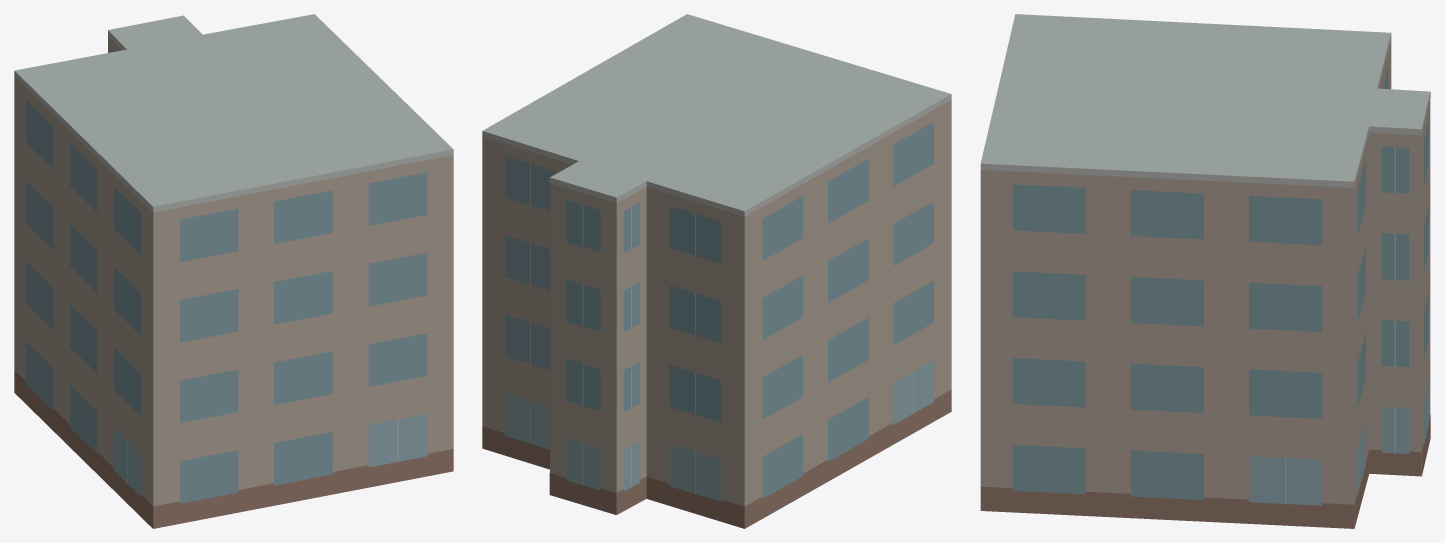
The model's file is survey-upis-32486648.glb.
The picture shows the model from 3 angles, left to right: view 1: azimuth 30°, elevation 25°; view 2: azimuth 150°, elevation 25°; view 3: azimuth 270°, elevation 25°; orthographic projection. The views are drawn at different scales.
Parts seen in each view (by area): view 1: survey-upis-32486648.tmp; view 2: survey-upis-32486648.tmp; view 3: survey-upis-32486648.tmp.
Boxes of the visible parts, box(x1,y1,x2,y2) form: survey-upis-32486648.tmp: box(14, 14, 453, 528); survey-upis-32486648.tmp: box(482, 14, 951, 528); survey-upis-32486648.tmp: box(980, 14, 1430, 528).
Size of the model in its own units: 14.2 by 13.7 by 16.09.
